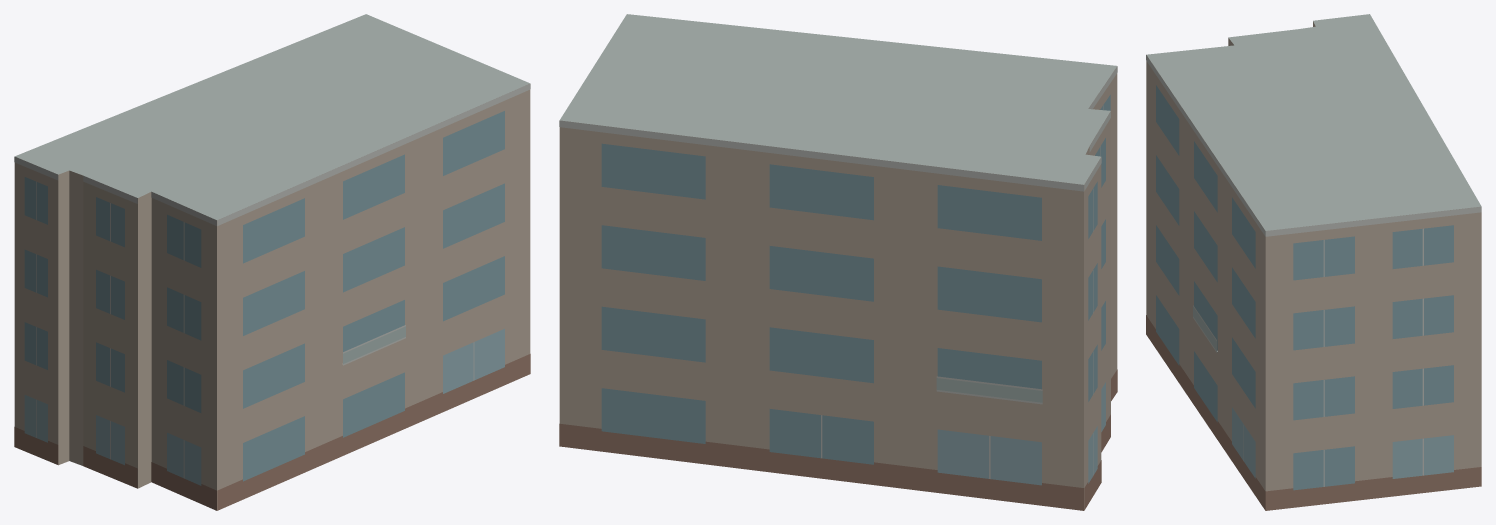
The model's file is survey-upis-32988078.glb.
3 views of the same model, side by side, from view 1: azimuth 30°, elevation 25°; view 2: azimuth 150°, elevation 25°; view 3: azimuth 270°, elevation 25° (orthographic). The views are drawn at different scales.
Parts seen in each view (by area): view 1: survey-upis-32988078.tmp; view 2: survey-upis-32988078.tmp; view 3: survey-upis-32988078.tmp.
Boxes of the visible parts, <box> form: survey-upis-32988078.tmp: <box>14,14,530,510</box>; survey-upis-32988078.tmp: <box>559,14,1117,510</box>; survey-upis-32988078.tmp: <box>1146,14,1481,510</box>.
Size of the model in its own units: 19.63 by 11.8 by 12.83.
